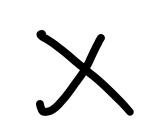mult: (35, 30, 134, 116)
